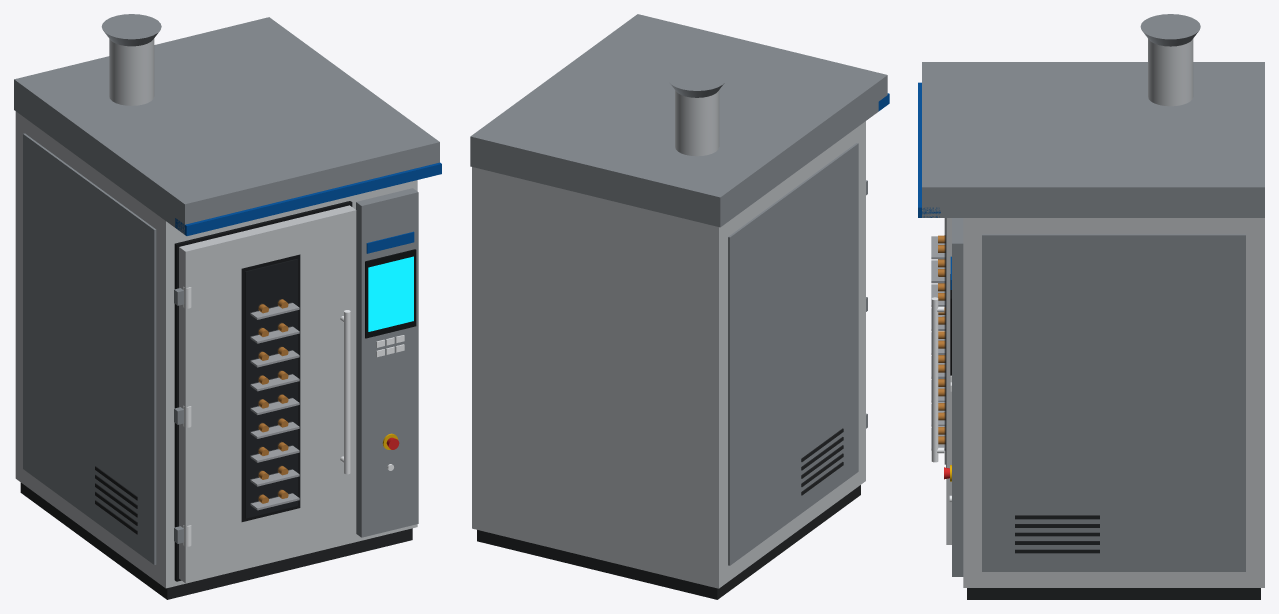
Rendered from oven.glb.
3 views of the same model, side by side, from view 1: azimuth 30°, elevation 25°; view 2: azimuth 150°, elevation 25°; view 3: azimuth 270°, elevation 25° (orthographic). The views are drawn at different scales.
Visible parts, largest first — view 1: Oven_MIWE_RollIn, anim_rack; view 2: Oven_MIWE_RollIn; view 3: Oven_MIWE_RollIn, anim_rack.
Boxes of the visible parts, bbox=[...] form: Oven_MIWE_RollIn: bbox=[14, 14, 441, 599]; anim_rack: bbox=[250, 299, 299, 510]; Oven_MIWE_RollIn: bbox=[470, 14, 889, 599]; Oven_MIWE_RollIn: bbox=[918, 14, 1264, 599]; anim_rack: bbox=[931, 235, 945, 450].
Bounding box in the file's own units: 1.59 × 2.84 × 1.84.
